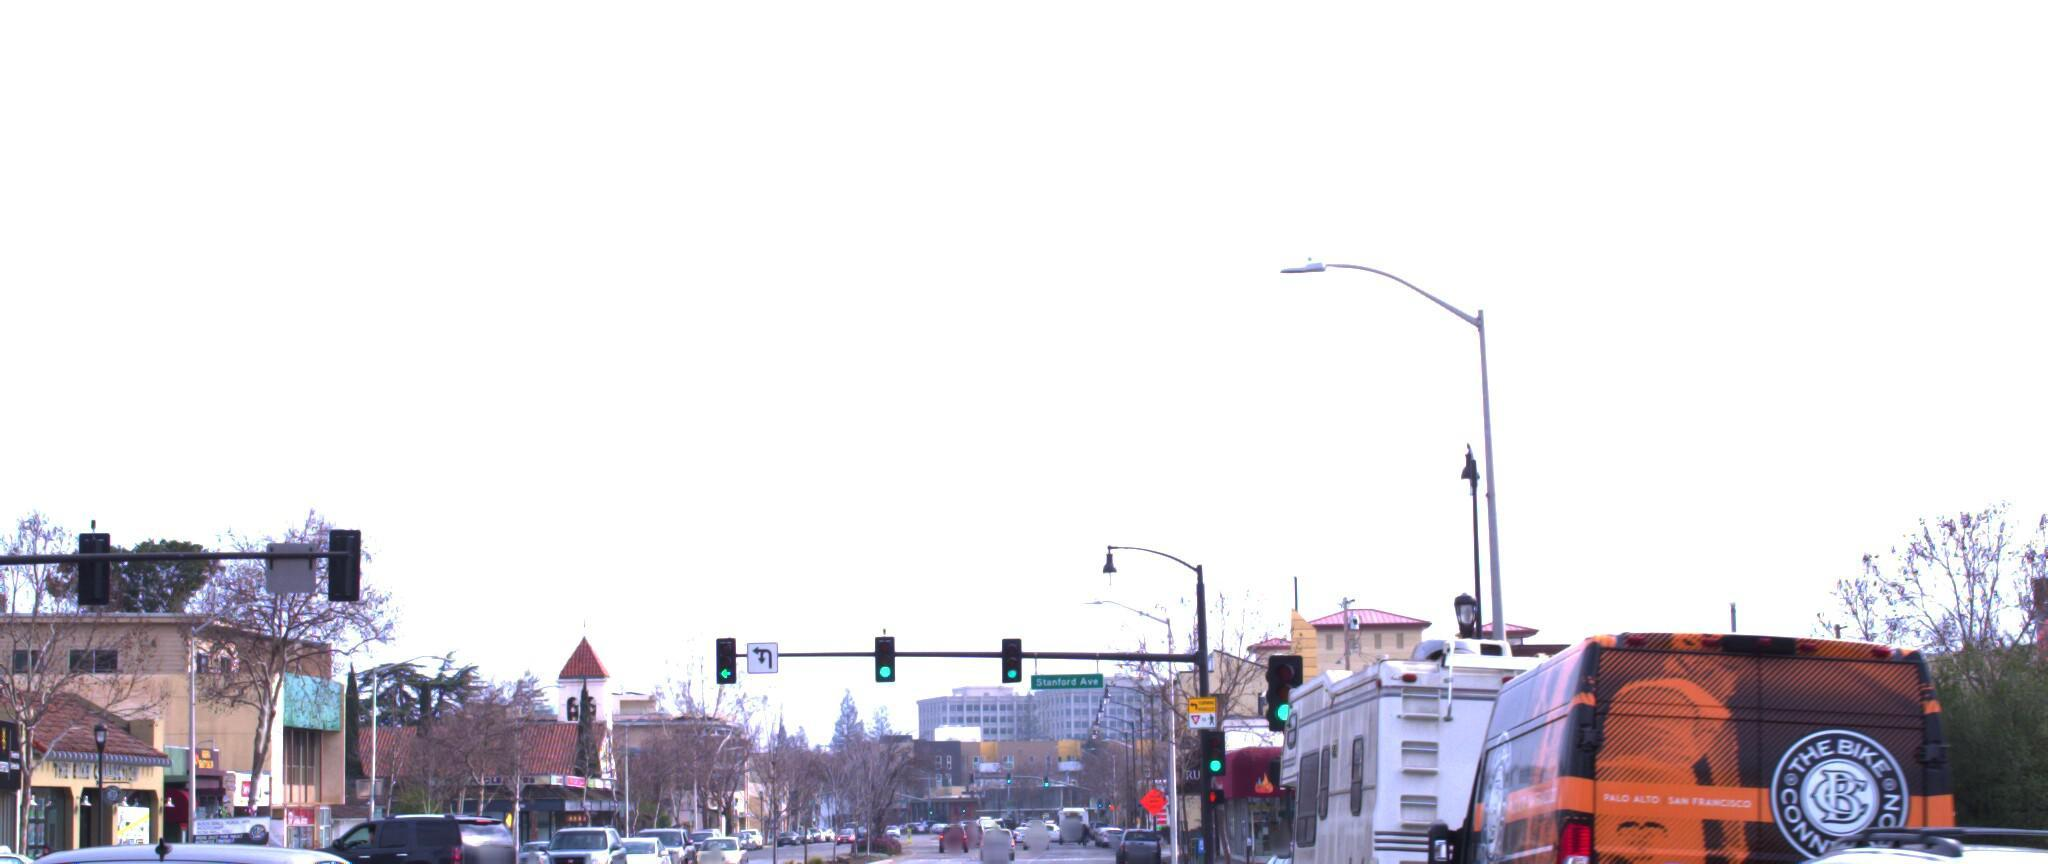car: (1401, 606, 2001, 864), (1582, 803, 2048, 864), (0, 820, 498, 864), (270, 792, 528, 864), (1224, 814, 1421, 864), (0, 839, 104, 864), (1975, 854, 2048, 864)
other_vehicle: (1260, 589, 1752, 864)
